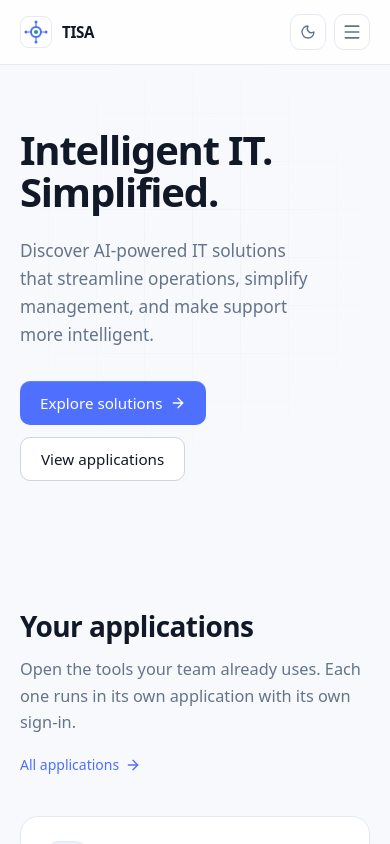
Test case: mobile navigation › opens, navigates, and closes after navigation
The image size is (390, 844).
Click the button named "open menu" at coordinates (352, 32), box [334,14,370,50]
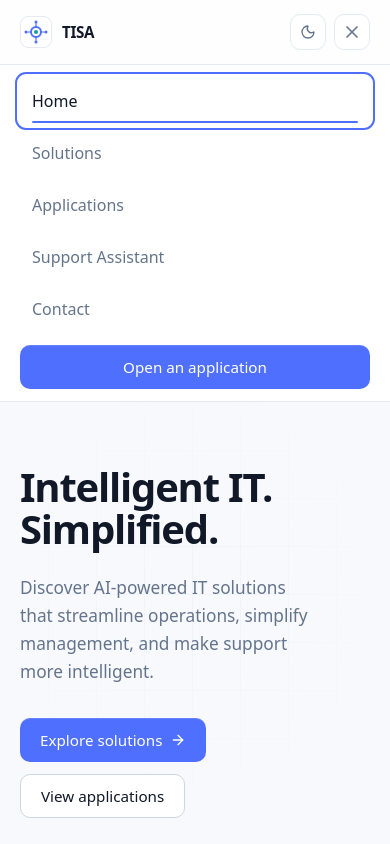
expect the button named "close menu" is expanded: met, box [334,14,370,50]
expect the element with id "mobile-menu" is shown: met, box [0,64,389,401]
Click the link to "/solutions" at coordinates (67, 153), box [32,142,102,164]
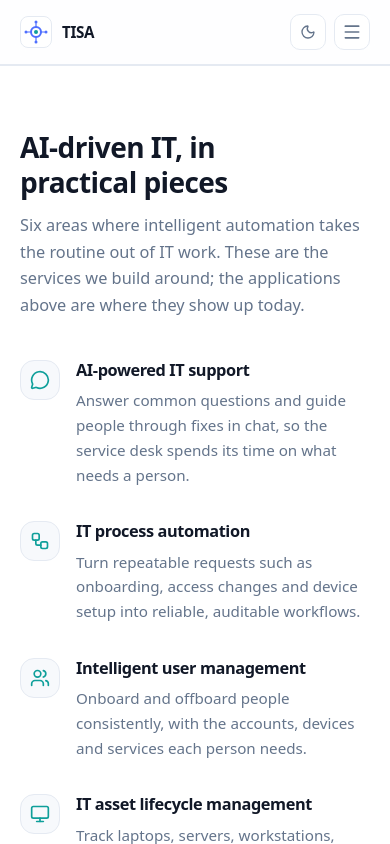
expect the heading "AI-driven IT, in practical pieces" is shown: met, box [20,128,228,201]
expect the button named "open menu" is collapsed: met, box [334,14,370,50]
